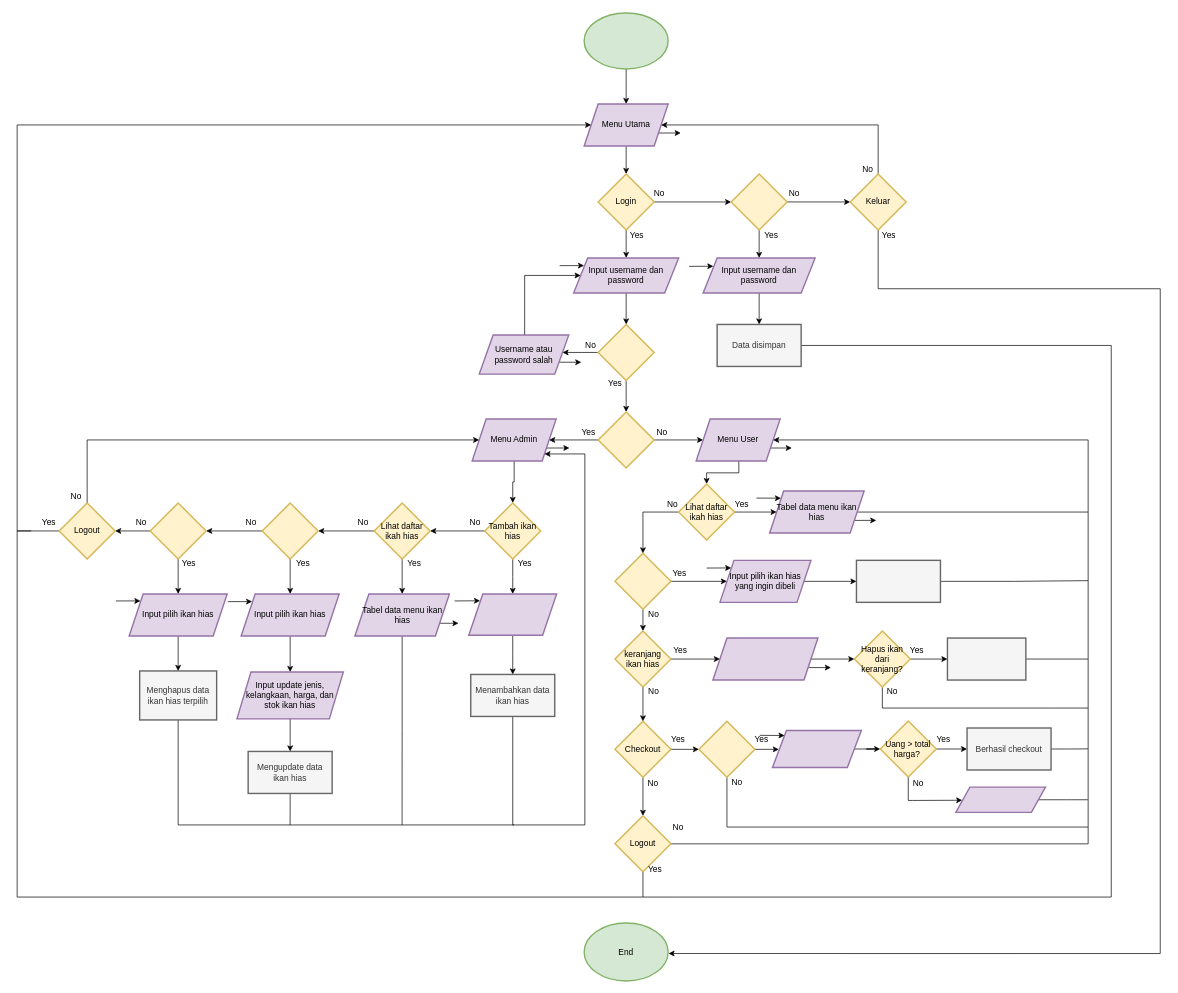
The diagram is 1178 pixels wide and 993 high, and some of its shapes have lost their labels. Here are the shapes that lost their labels. From the top down, the centre of each, then its label:
At point (625, 40): "Start".
At point (759, 201): "Register".
At point (625, 352): "Login berhasil?".
At point (625, 439): "Admin?".
At point (177, 530): "Hapus data ikan hias".
At point (289, 530): "Update data ikan hias".
At point (642, 581): "Pesan ikan hias".
At point (898, 581): "Menambahkan ikan hias ke keranjang".
At point (512, 614): "Input jenis, kelangkaan, harga, dan stok ikan hias".
At point (765, 658): "Ikan hias yang ada di keranjang".
At point (986, 658): "Menghapus ikan hias terpilih dari keranjang".
At point (726, 749): "Konfirmasi checkout".
At point (816, 748): "Input uang yang dimiliki".
At point (1000, 799): "Uang tidak cukup".
